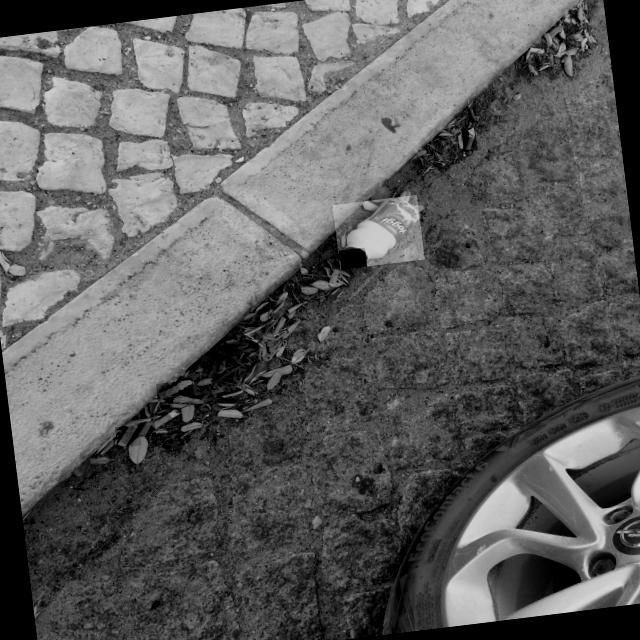Bottle cap: (339, 249, 366, 267)
Cigarette: (158, 379, 193, 400), (152, 408, 180, 429), (117, 425, 139, 447), (136, 420, 154, 436), (465, 128, 476, 151), (329, 269, 340, 286), (468, 107, 477, 122), (530, 47, 544, 54)
Other plastic wrapper: (339, 197, 419, 267)
